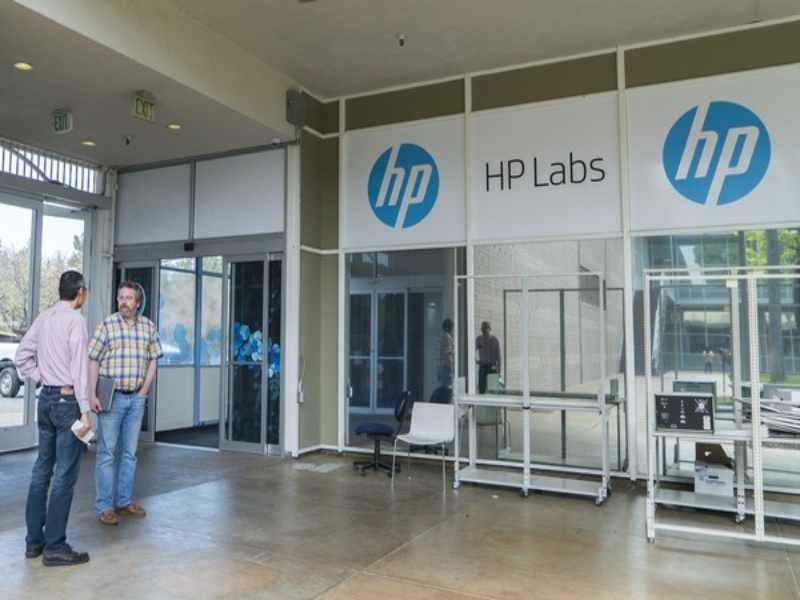hp: (681, 103, 759, 204), (375, 144, 433, 225)
